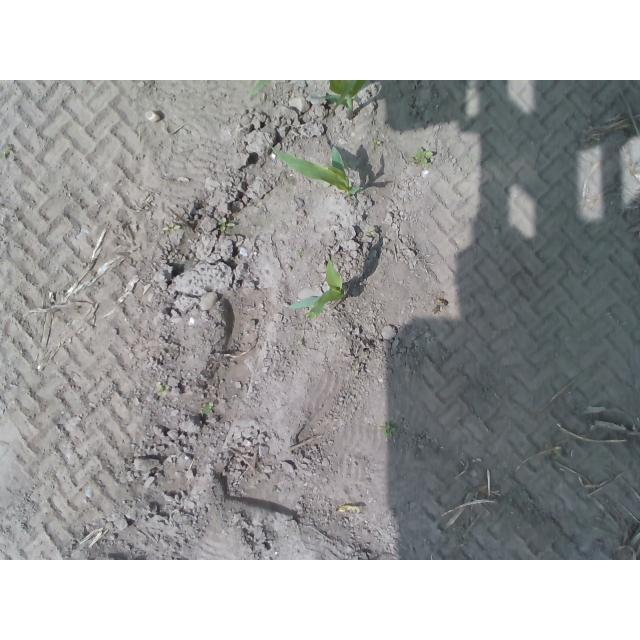Maize: (262, 133, 358, 201), (247, 80, 370, 117), (284, 257, 346, 319)
Weeds: (414, 147, 434, 167), (158, 221, 180, 235), (200, 401, 217, 417), (217, 217, 235, 232), (155, 383, 172, 398), (382, 424, 396, 440), (366, 228, 374, 237), (371, 139, 381, 146)
